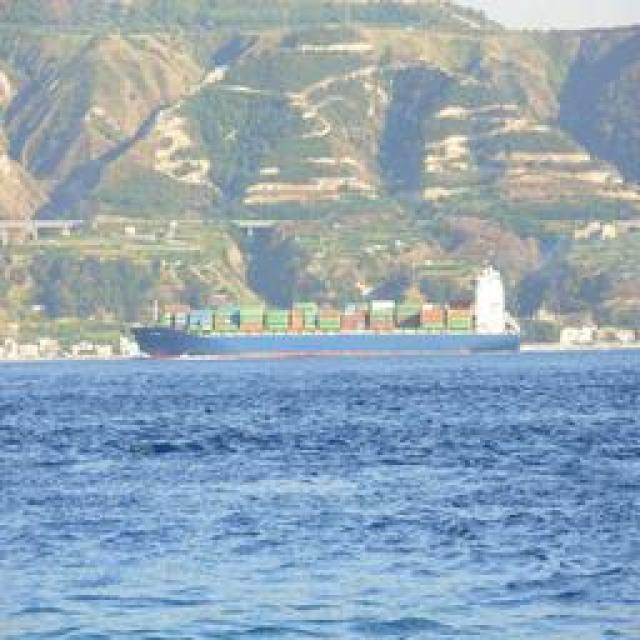ship2: (132, 258, 522, 357)
